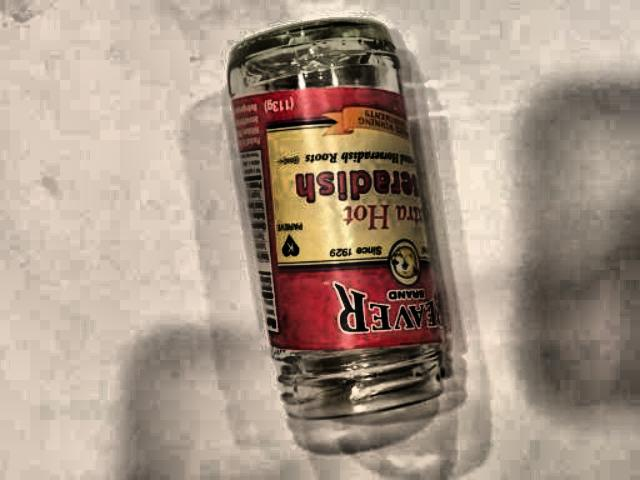Almennt: (211, 3, 483, 429)
